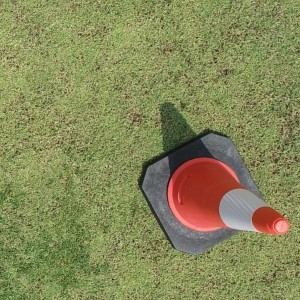traffic cone: (139, 130, 289, 256)
